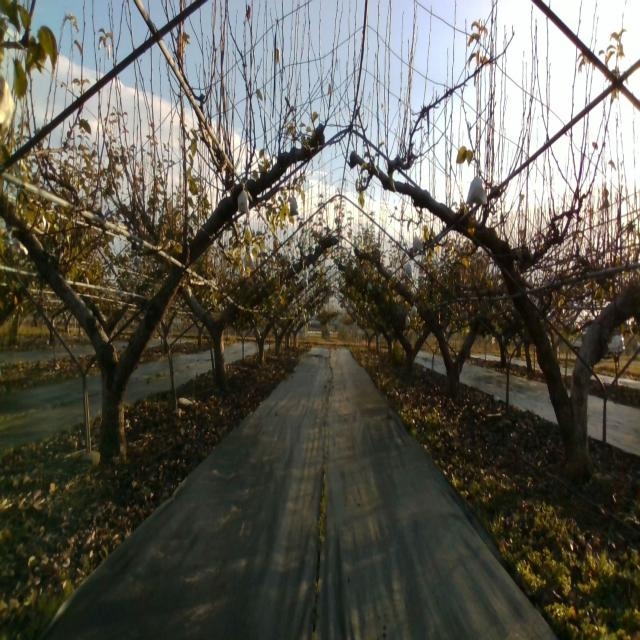pearbags: (466, 176, 488, 205), (237, 182, 250, 214), (412, 230, 423, 253), (289, 194, 299, 217)
